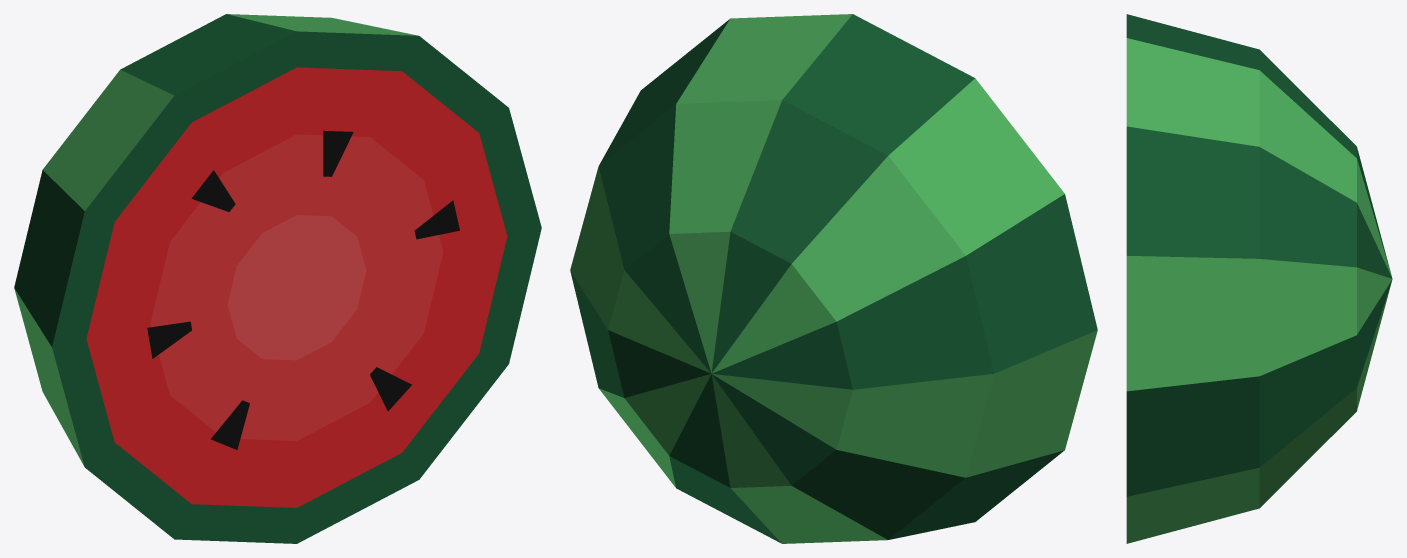
File: Watermelon Half.fbx
The picture shows the model from 3 angles, left to right: view 1: azimuth 30°, elevation 25°; view 2: azimuth 150°, elevation 25°; view 3: azimuth 270°, elevation 25°; orthographic projection. The views are drawn at different scales.
Visible parts, largest first — view 1: Watermelon Half; view 2: Watermelon Half; view 3: Watermelon Half.
Part boxes in pixels (bbox=[...]): Watermelon Half: bbox=[14, 14, 541, 543]; Watermelon Half: bbox=[570, 14, 1097, 543]; Watermelon Half: bbox=[1126, 14, 1392, 543].
Size of the model in its own units: 22.31 by 22.31 by 11.16.
